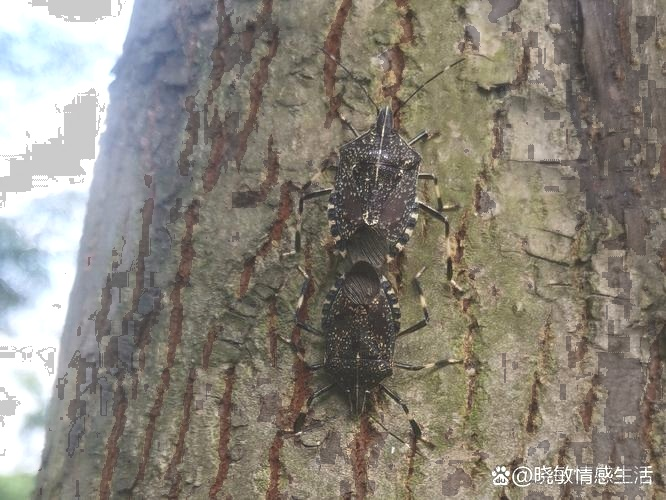Stink_Bug: (312, 94, 412, 417)
